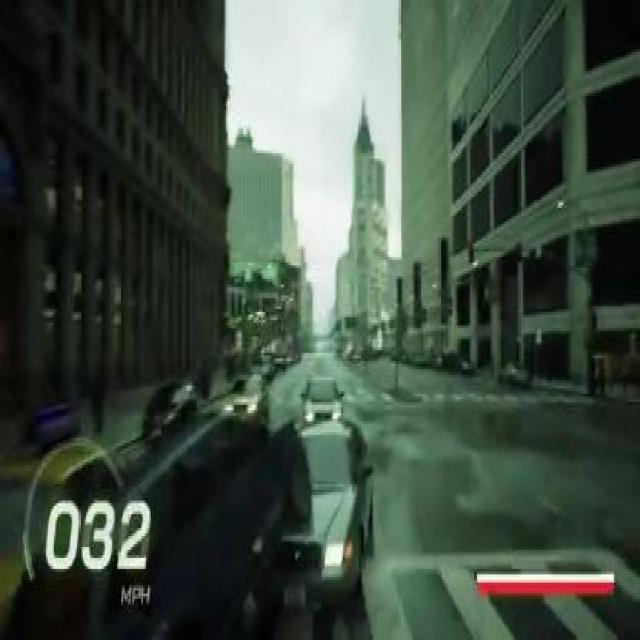accident: (69, 391, 380, 640)
